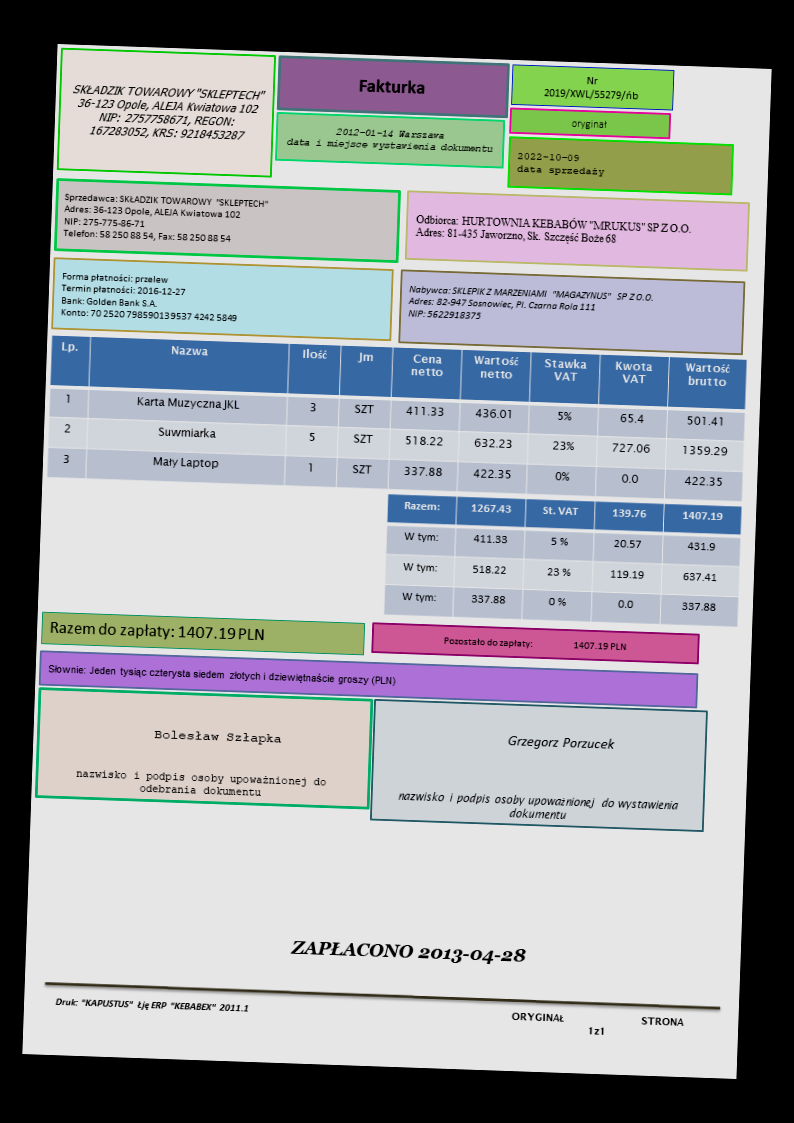Table: (45, 333, 747, 504), (382, 490, 744, 629)
TextBox: (69, 80, 269, 143), (61, 188, 271, 247), (405, 281, 656, 330), (395, 788, 681, 828), (412, 209, 694, 249), (57, 267, 240, 325), (45, 660, 398, 688), (72, 766, 329, 800), (287, 935, 529, 970), (284, 123, 496, 157), (46, 616, 266, 645), (507, 1007, 688, 1042), (53, 993, 251, 1016), (440, 632, 629, 655), (541, 70, 639, 104), (150, 724, 282, 749), (513, 149, 608, 180), (505, 731, 617, 752), (355, 75, 427, 97), (569, 117, 610, 132)
